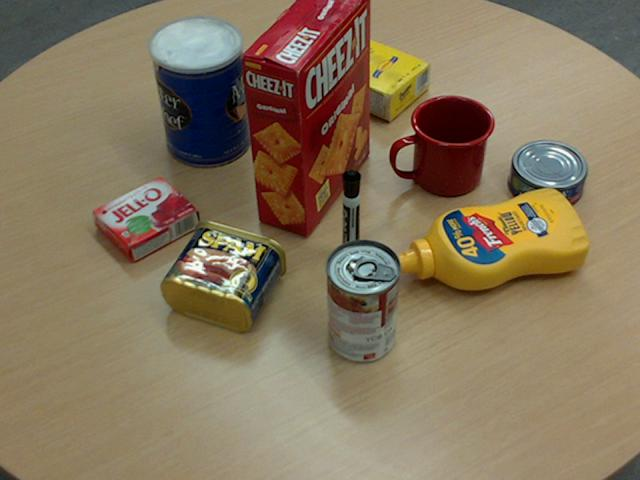cracker_box: (239, 0, 370, 235)
gelatin_box: (92, 174, 198, 261)
large_marker: (341, 170, 360, 263)
master_chef_can: (149, 15, 249, 167)
mug: (390, 94, 494, 195)
mustard_bottle: (394, 187, 587, 290)
potted_meat_can: (159, 219, 286, 330)
sugar_box: (279, 18, 430, 120)
tomato_soup_can: (324, 238, 399, 362)
tuna_fish_can: (507, 139, 586, 209)
